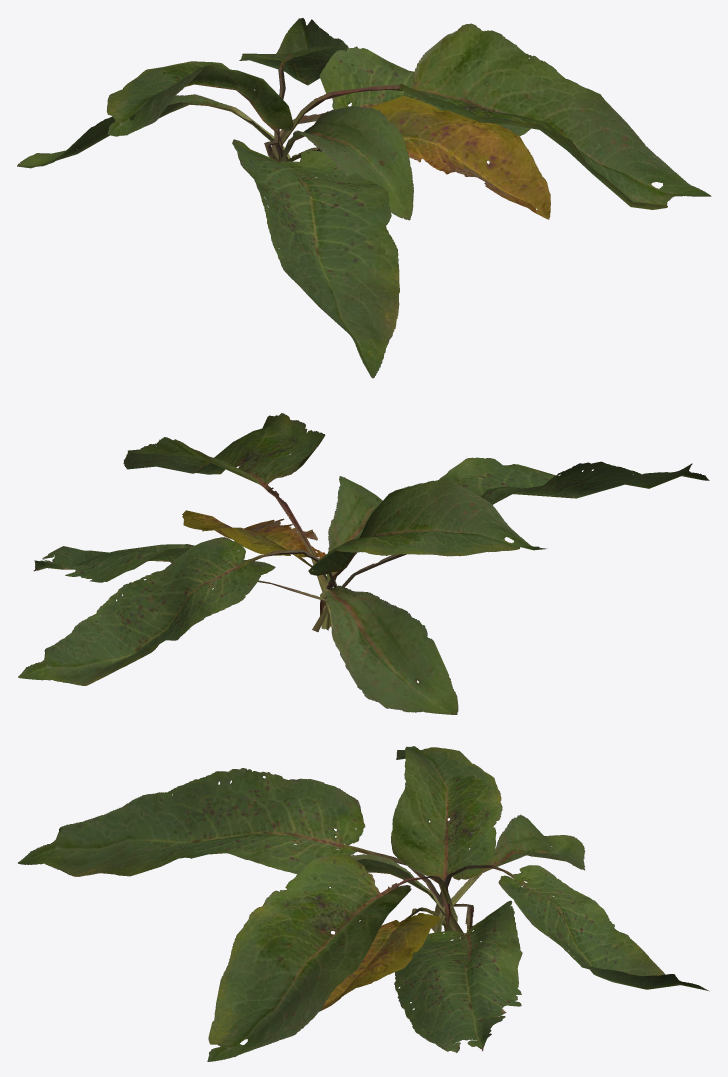
The picture shows the model from 3 angles, top to bottom: view 1: azimuth 30°, elevation 25°; view 2: azimuth 150°, elevation 25°; view 3: azimuth 270°, elevation 25°; orthographic projection. The views are drawn at different scales.
Visible parts, largest first — view 1: weed_plant_02__a_lod0; view 2: weed_plant_02__a_lod0; view 3: weed_plant_02__a_lod0.
Boxes of the visible parts, bbox=[...] form: weed_plant_02__a_lod0: bbox=[17, 18, 711, 378]; weed_plant_02__a_lod0: bbox=[18, 413, 709, 714]; weed_plant_02__a_lod0: bbox=[18, 746, 709, 1061].
Bounding box in the file's own units: 0.226 × 0.0752 × 0.3.
1 material, 1 textured.
